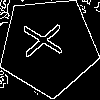X: (23, 21, 71, 59)
